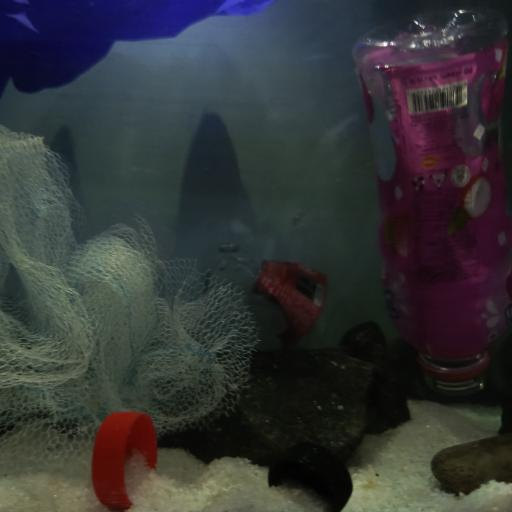bottle_cap: (92, 410, 157, 509), (268, 439, 354, 512)
glove: (1, 0, 274, 93)
net: (0, 126, 258, 456)
plastic_bottle: (351, 4, 507, 399), (204, 240, 378, 344)
